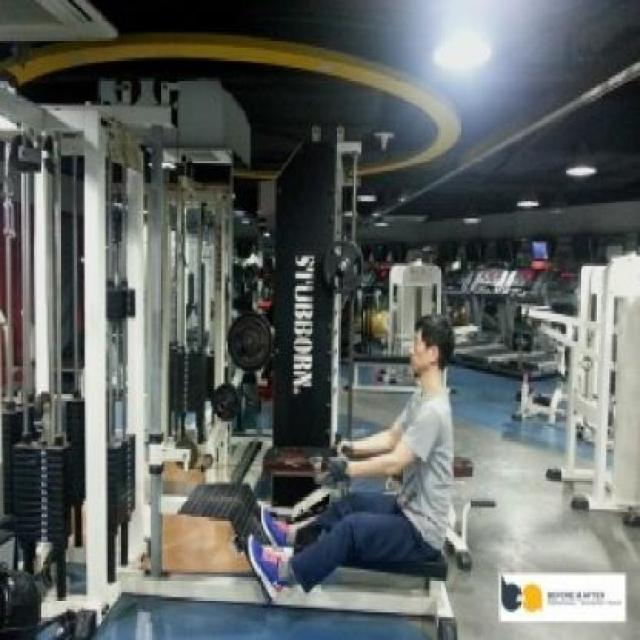Seated Cable Rows: (0, 7, 487, 640)
